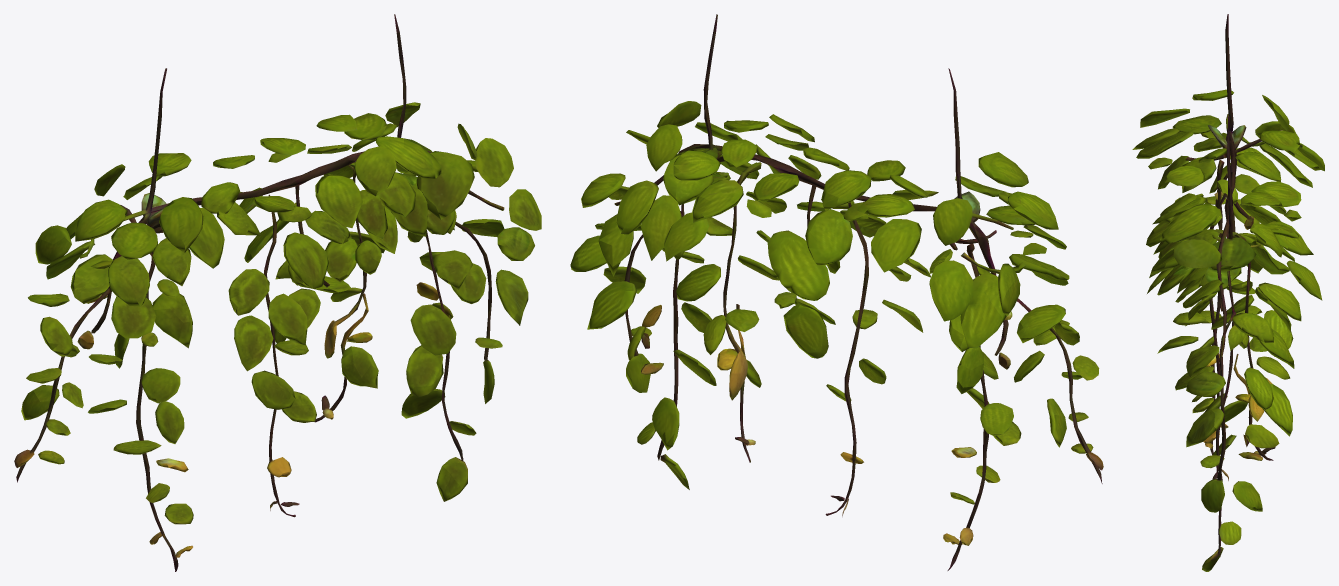
File: veg-vine.glb
3 renders of one model, left to right at view 1: azimuth 30°, elevation 25°; view 2: azimuth 150°, elevation 25°; view 3: azimuth 270°, elevation 25°, orthographic. The views are drawn at different scales.
Parts seen in each view (by area): view 1: Mesh_0; view 2: Mesh_0; view 3: Mesh_0.
Part boxes in pixels (x1,y1,x2,y2): Mesh_0: (14, 14, 541, 571); Mesh_0: (570, 14, 1103, 570); Mesh_0: (1132, 14, 1324, 571).
Bounding box in the file's own units: 1 × 0.9453 × 0.3662.
Materials: 1 (1 with a texture image).
